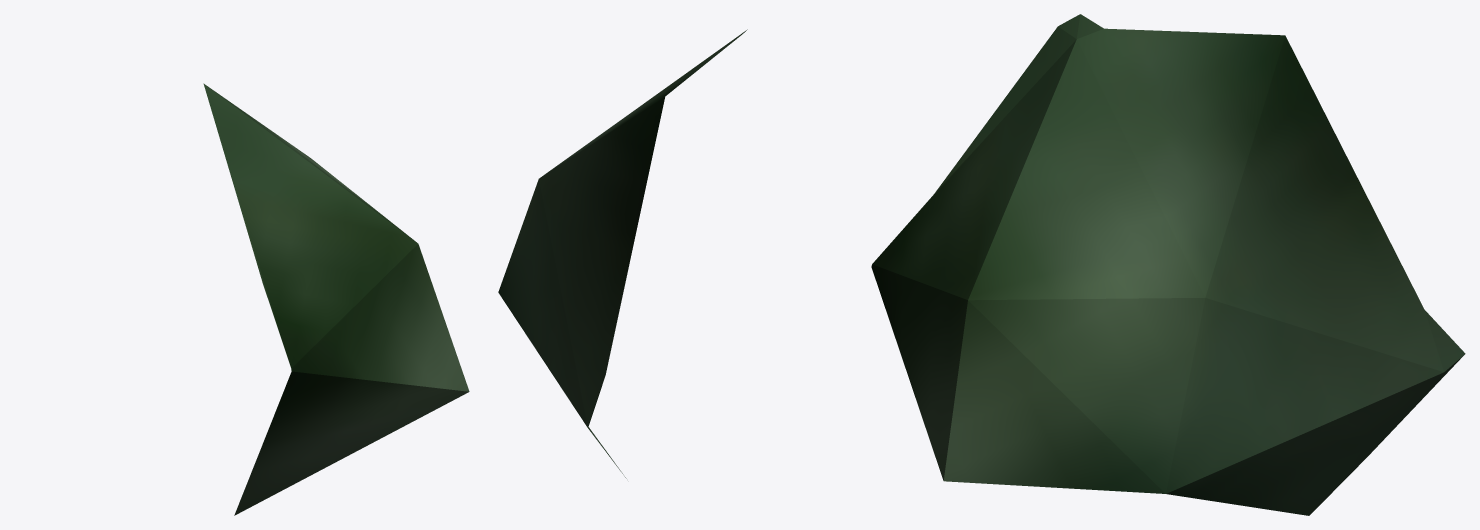
The picture shows the model from 3 angles, left to right: view 1: azimuth 30°, elevation 25°; view 2: azimuth 150°, elevation 25°; view 3: azimuth 270°, elevation 25°; orthographic projection. The views are drawn at different scales.
Size of the model in its own units: 0.0719 by 0.1355 by 0.1453.
Materials: 1 (1 with a texture image).
